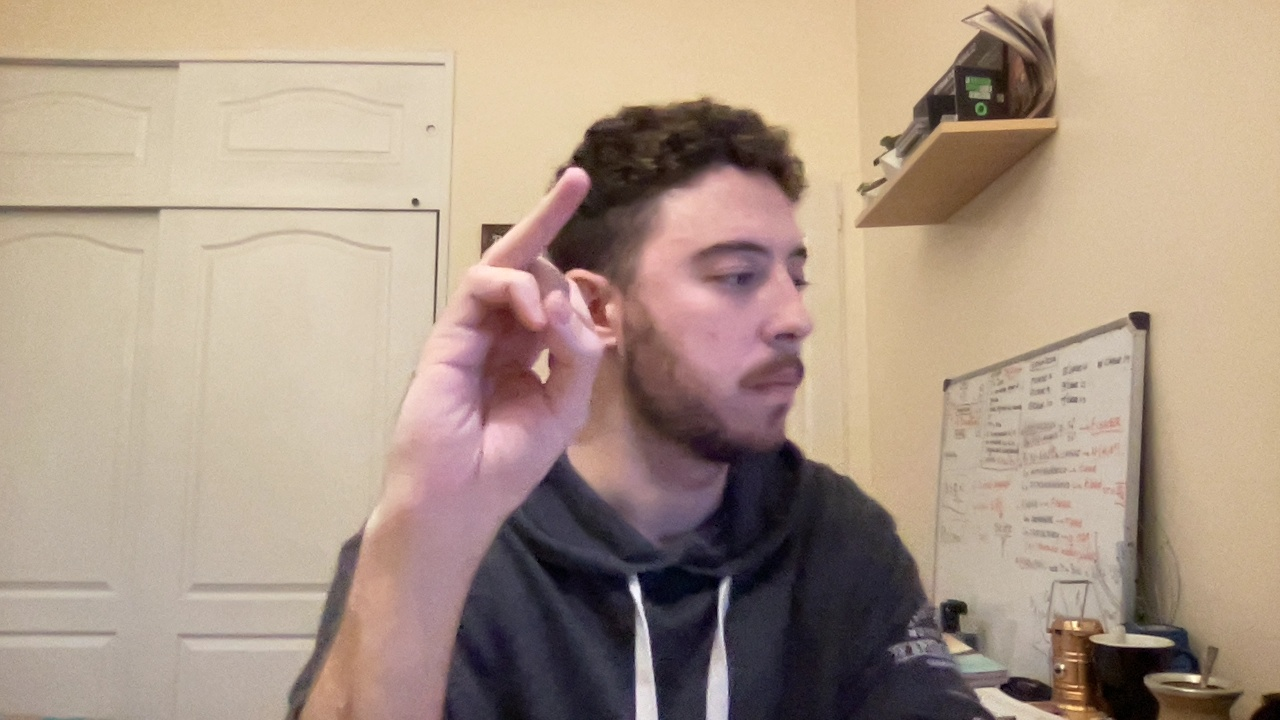anular: (378, 157, 623, 533)
